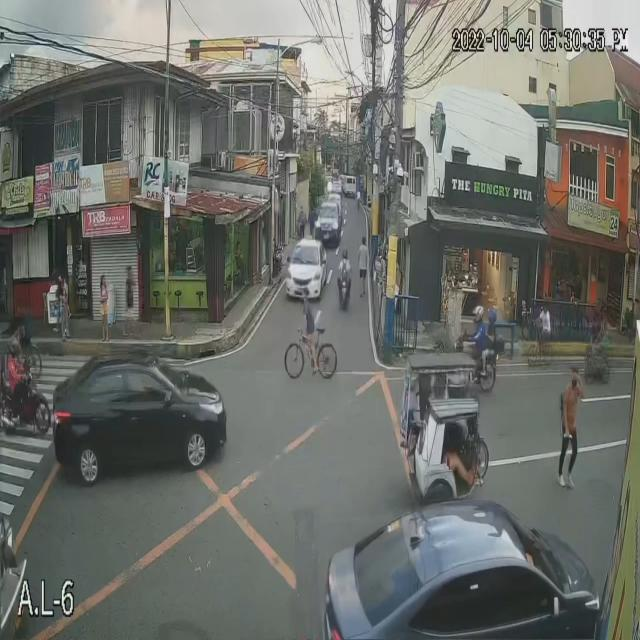full: (6, 334, 20, 357), (472, 303, 484, 326)
half: (487, 306, 497, 325)
